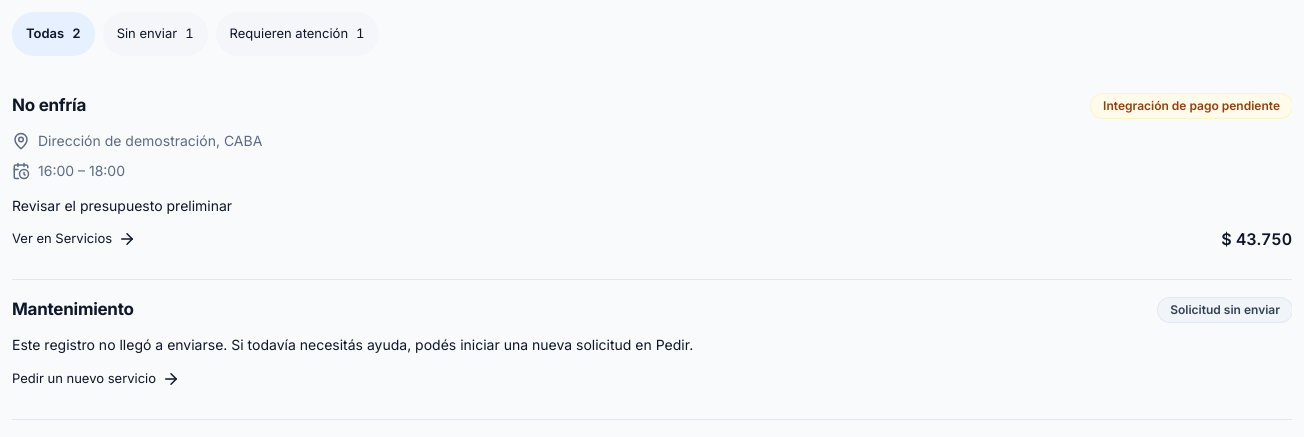
it: customer request pages › filters demo requests without importing the global operational dataset
Check: the button "Todas 2" is shown, box [12,12,95,56]
Check: the heading "No enfría" is shown, box [12,94,86,118]
Click the button "Sin enviar 1" at (155, 34), box [103,12,208,56]
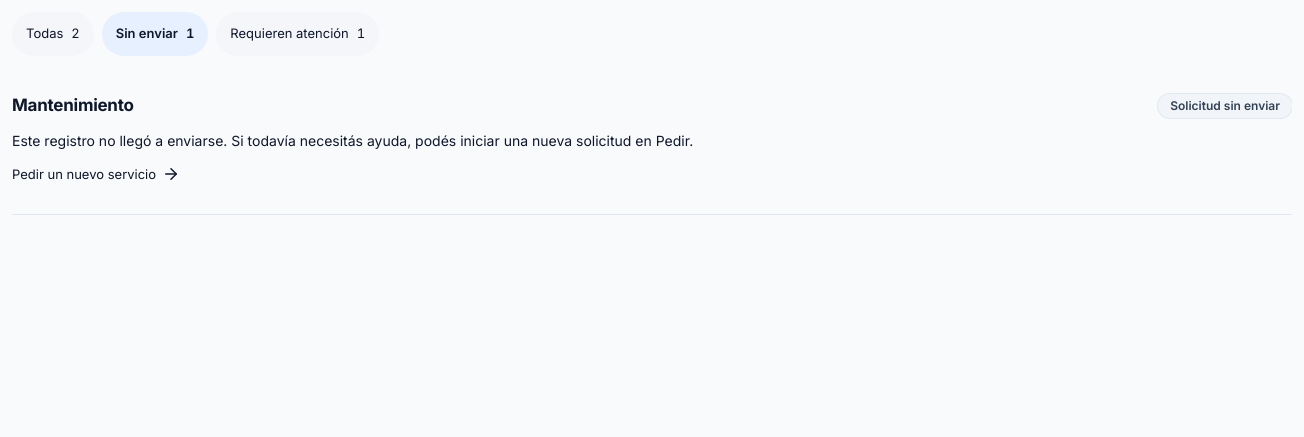
Check: the heading "Mantenimiento" is shown, box [12,94,134,118]
Check: the heading "No enfría" is gone
